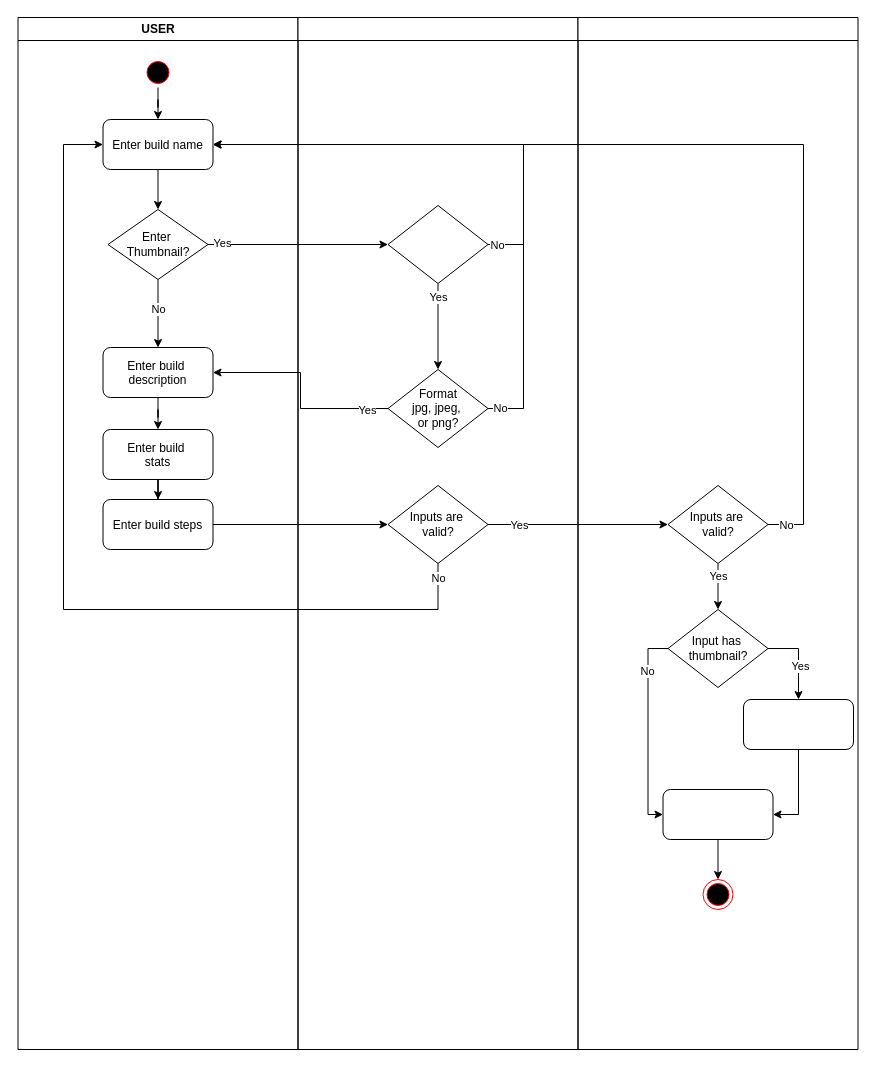
This 875x1067 diagram has some shape labels left out. The shapes that lost their labels are listed below. From the top down, each one's box as (x1, y1, x2, y2) in pixels, then its label:
(387, 204, 488, 284): Thumbnail <400kb?
(297, 16, 578, 1050): WEB
(577, 16, 858, 1050): SERVER
(742, 698, 854, 750): Save thumbnail to storage bucket
(662, 788, 773, 840): Save data to database
